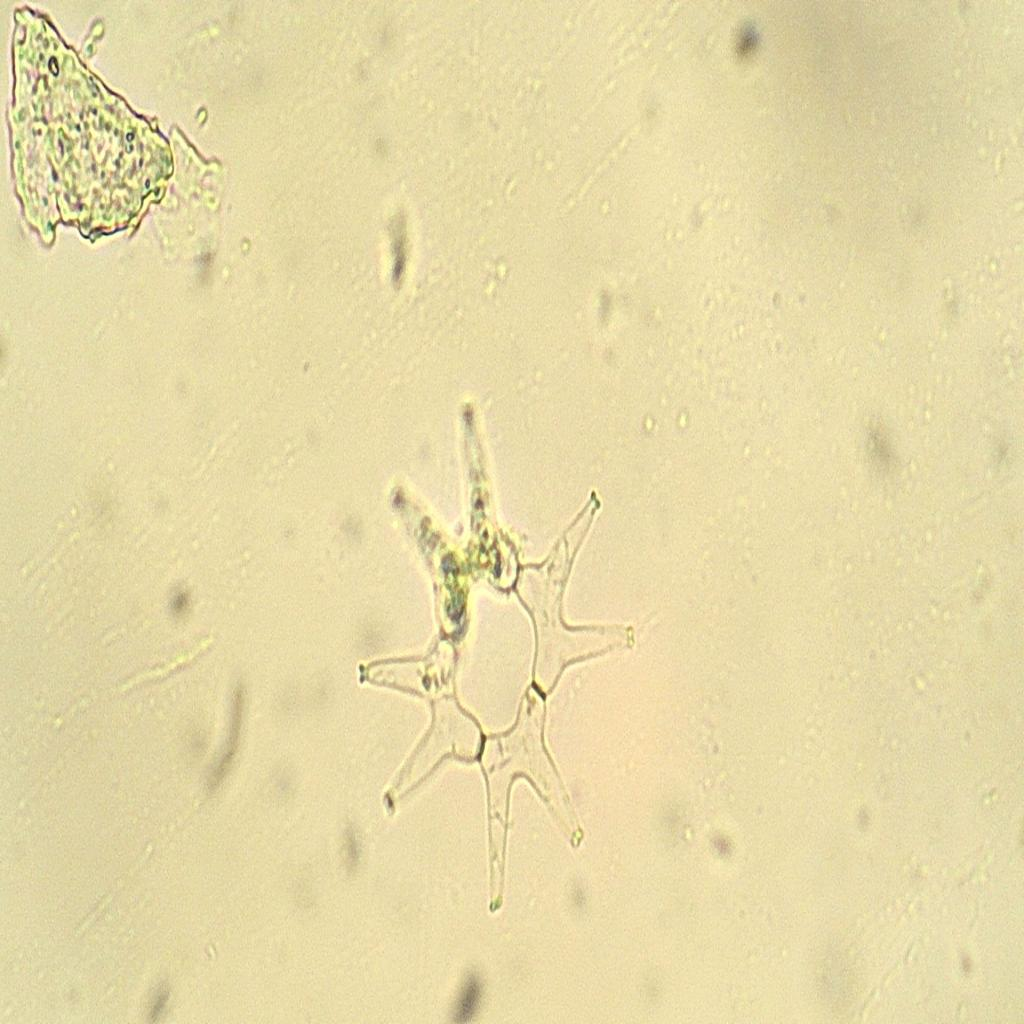Pediastrum_75TH: (341, 380, 643, 920)
